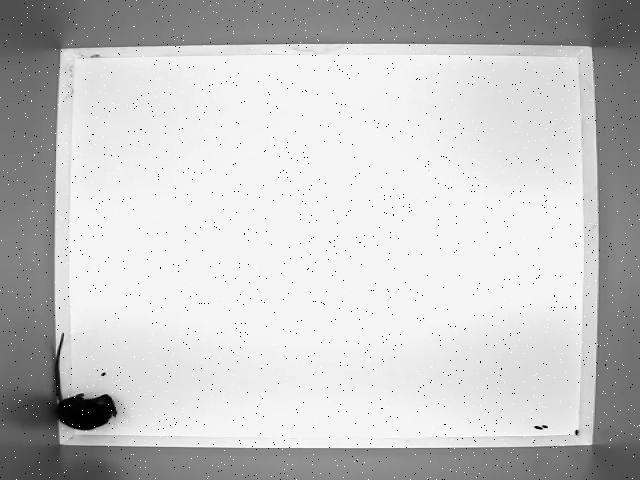Tikus: (52, 330, 122, 432)
